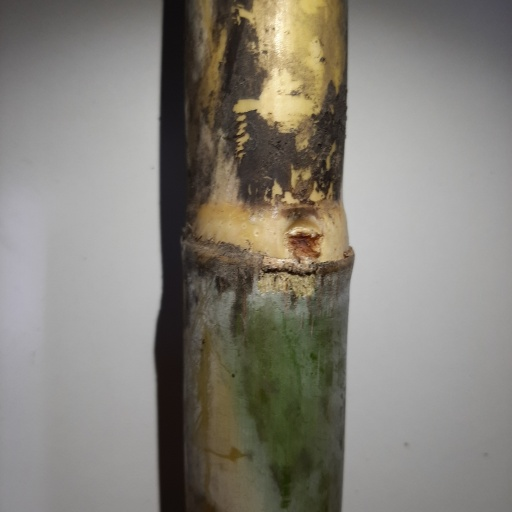Damage_Bud: (289, 221, 321, 262)
